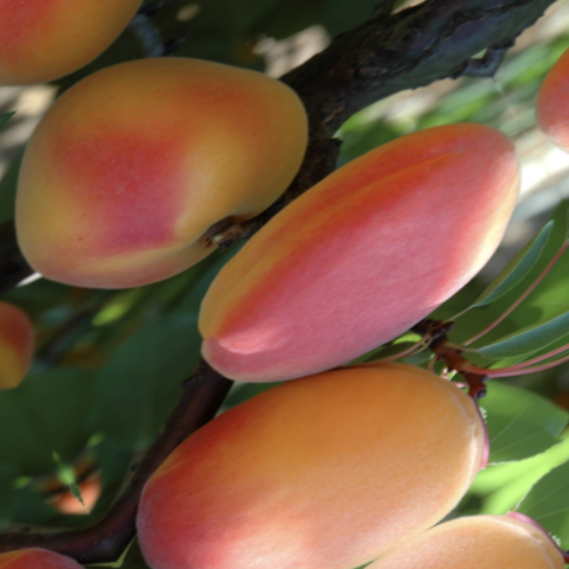mango: (145, 74, 569, 445), (0, 0, 378, 368), (80, 286, 538, 569)
